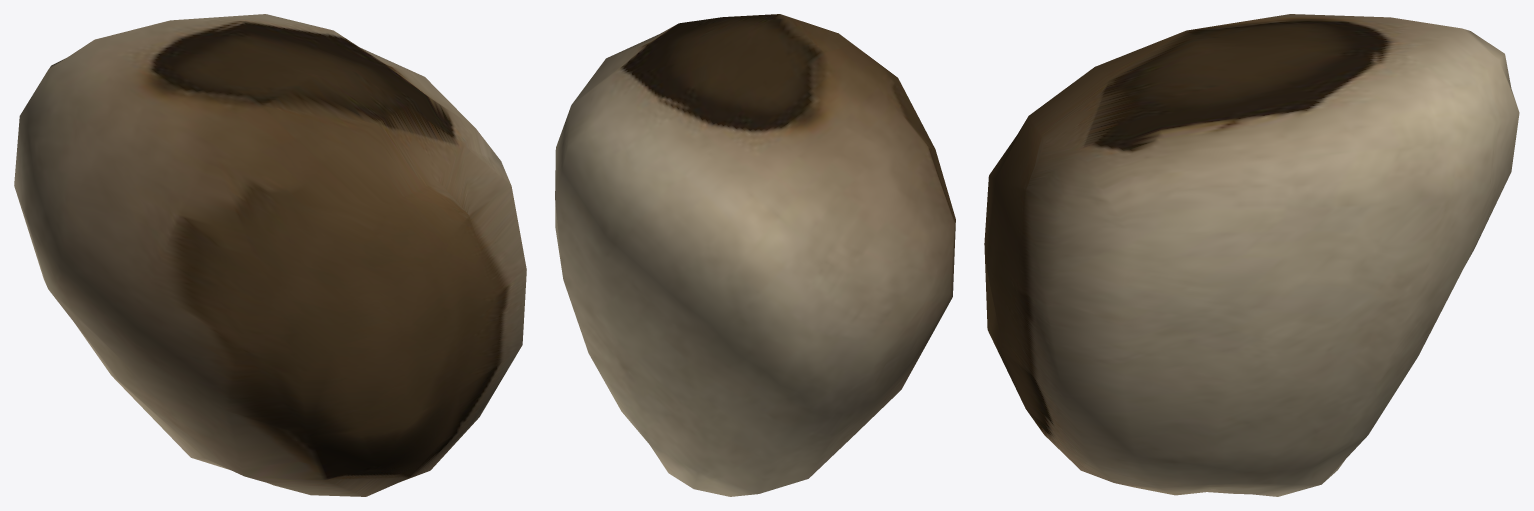
File: Metatarsal_I.glb
3 renders of one model, left to right at view 1: azimuth 30°, elevation 25°; view 2: azimuth 150°, elevation 25°; view 3: azimuth 270°, elevation 25°, orthographic. The views are drawn at different scales.
Visible parts, largest first — view 1: Metatarsal_I_Right1:Group49638; view 2: Metatarsal_I_Right1:Group49638; view 3: Metatarsal_I_Right1:Group49638.
Boxes of the visible parts, x1=… form: Metatarsal_I_Right1:Group49638: x1=14, y1=14, x2=526, y2=496; Metatarsal_I_Right1:Group49638: x1=555, y1=14, x2=955, y2=496; Metatarsal_I_Right1:Group49638: x1=984, y1=14, x2=1519, y2=496.
Bounding box in the file's own units: 4.72 × 4.98 × 5.49.
Materials: 1 (1 with a texture image).
